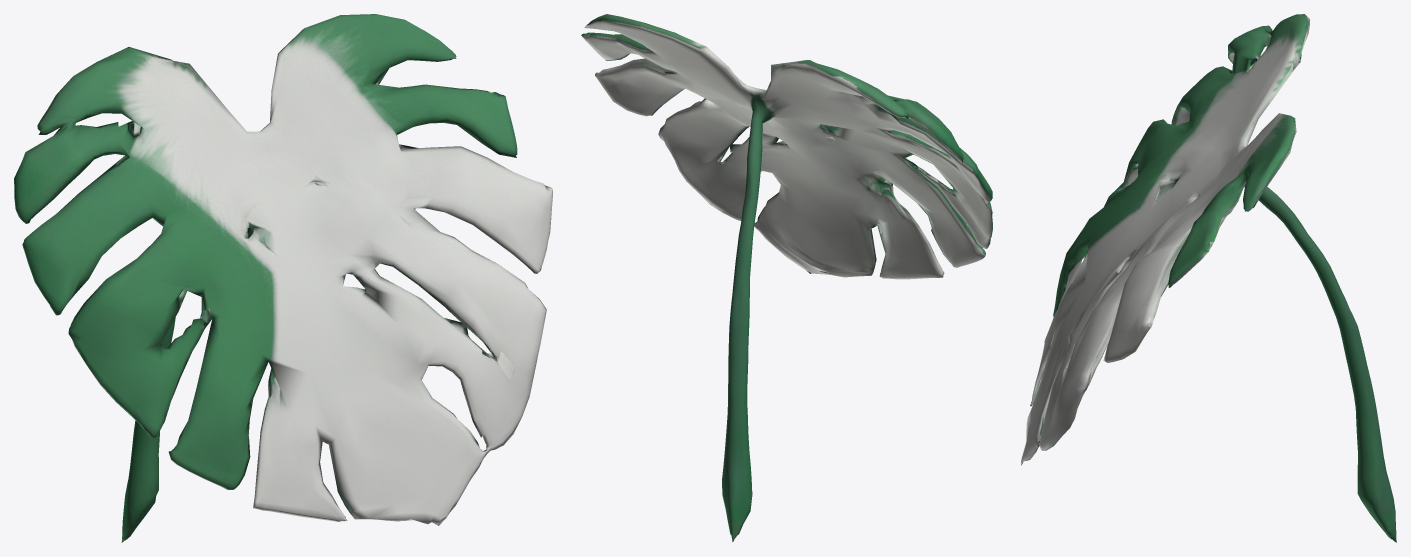
Rendered from mon_halfmoon_greencream.glb.
3 renders of one model, left to right at view 1: azimuth 30°, elevation 25°; view 2: azimuth 150°, elevation 25°; view 3: azimuth 270°, elevation 25°, orthographic. The views are drawn at different scales.
Bounding box in the file's own units: 1.88 × 2 × 1.37.
Materials: 1 (1 with a texture image).
